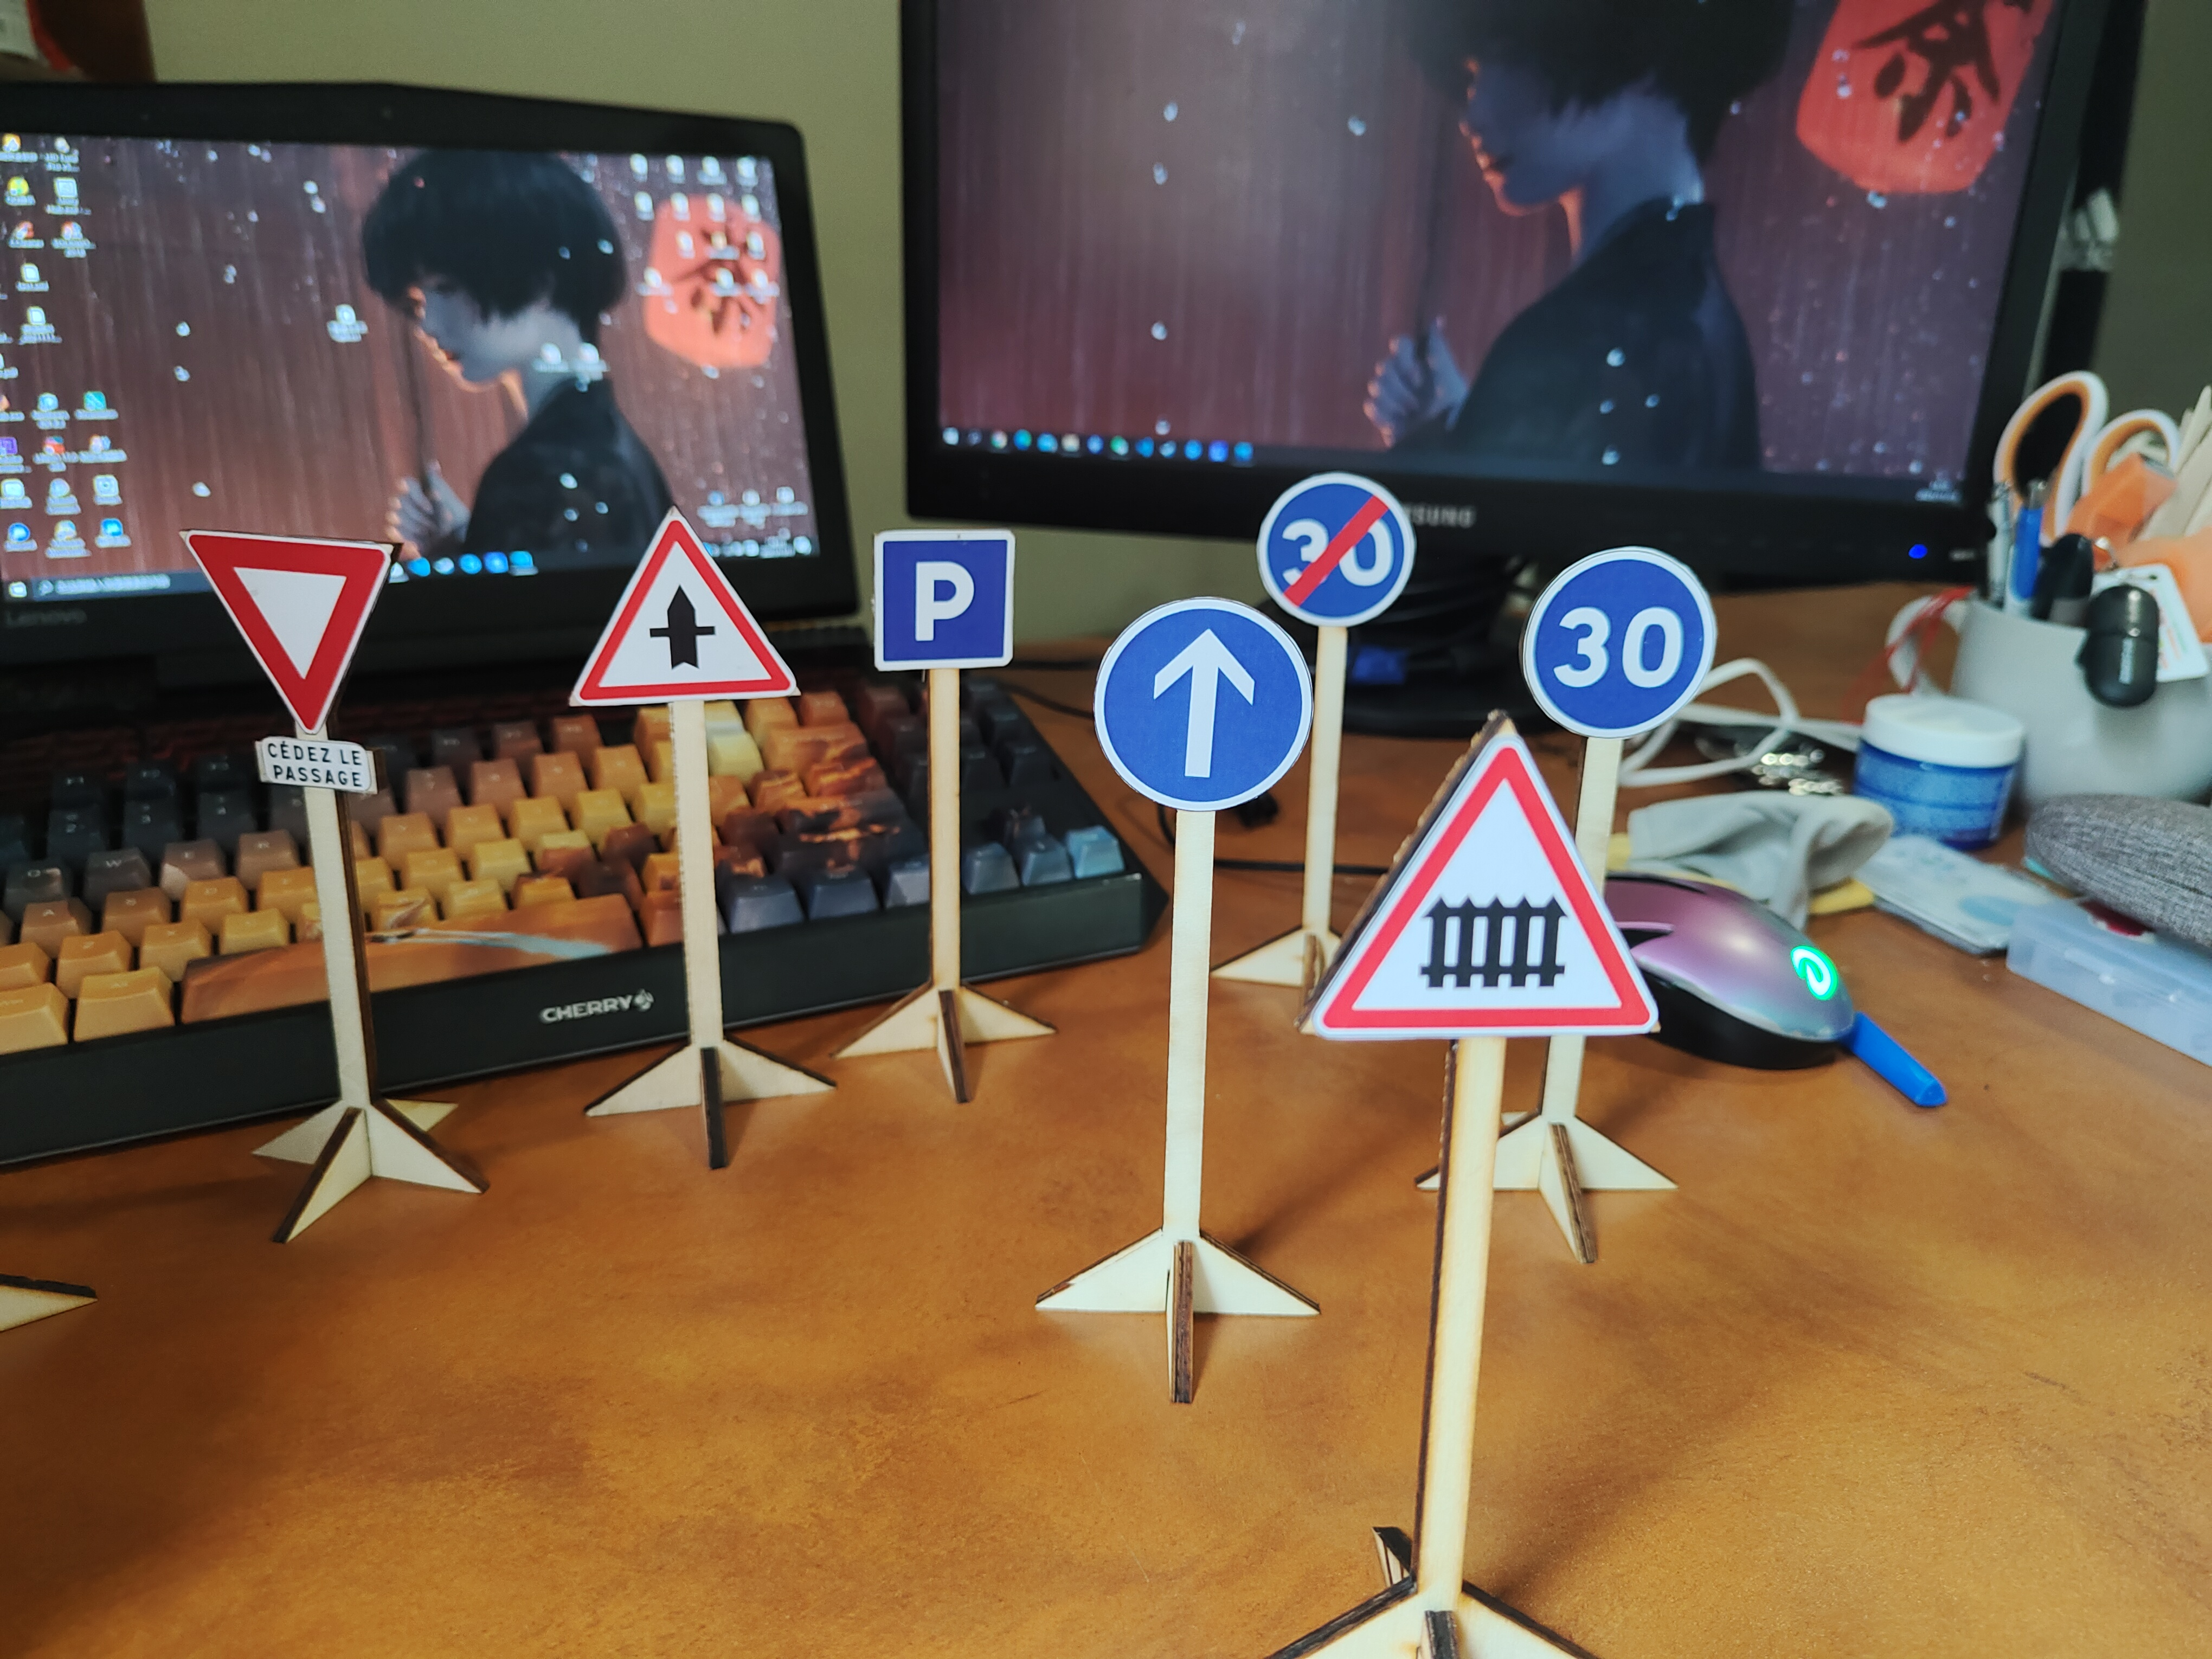P: (864, 519, 1021, 671)
ban: (1258, 471, 1409, 622)
first: (566, 514, 792, 697)
second: (183, 530, 397, 796)
straight: (1092, 594, 1312, 809)
thirty: (1519, 545, 1714, 737)
train: (1292, 721, 1669, 1040)
